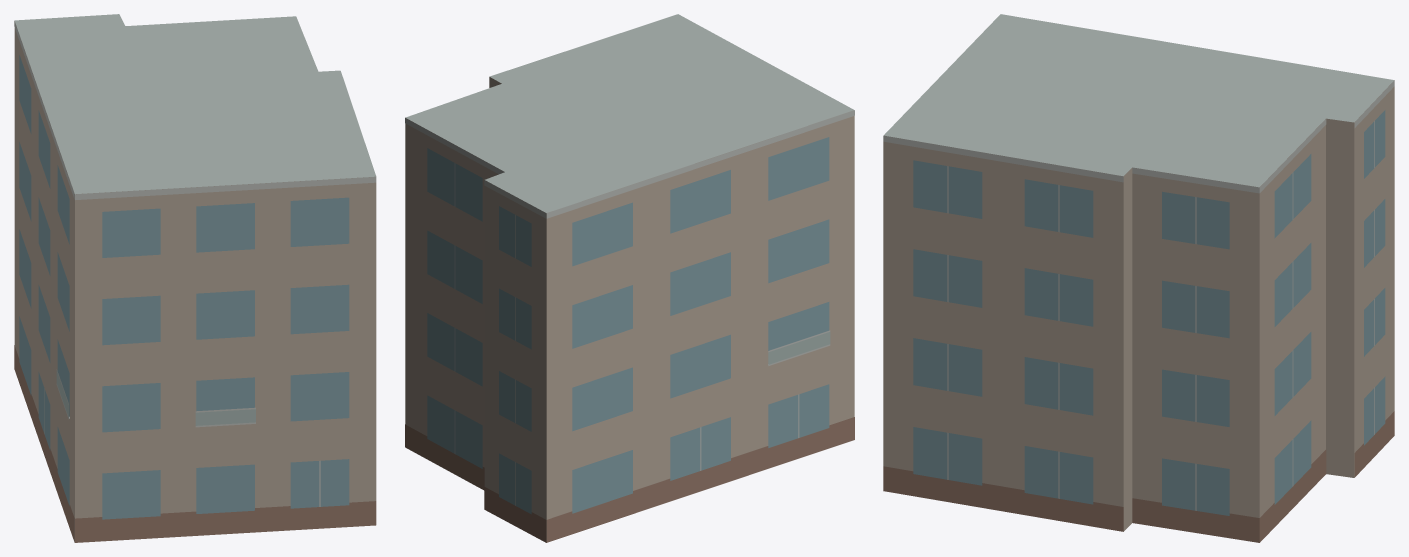
Rendered from survey-upis-32657241.glb.
3 views of the same model, side by side, from view 1: azimuth 30°, elevation 25°; view 2: azimuth 150°, elevation 25°; view 3: azimuth 270°, elevation 25° (orthographic). The views are drawn at different scales.
Visible parts, largest first — view 1: survey-upis-32657241.tmp; view 2: survey-upis-32657241.tmp; view 3: survey-upis-32657241.tmp.
Boxes of the visible parts, x1,y1,x2,y2 form: survey-upis-32657241.tmp: (14,14,376,542); survey-upis-32657241.tmp: (405,14,854,542); survey-upis-32657241.tmp: (883,14,1394,542).
Size of the model in its own units: 14.84 by 14.18 by 18.48.
